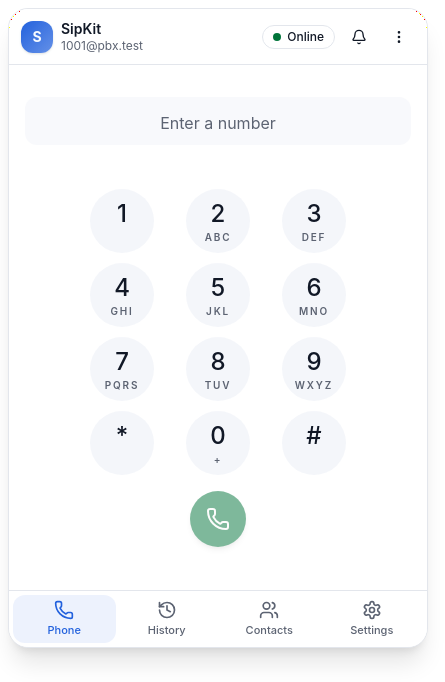
<Softphone /> with core Softphone + FakeEngine › places a call, holds, mutes, sends DTMF and hangs up; history comes from the plugin
Earlier steps of the test are not shown.
Step 1. Click the tab "History" → (167,619), box [116,595,218,643]
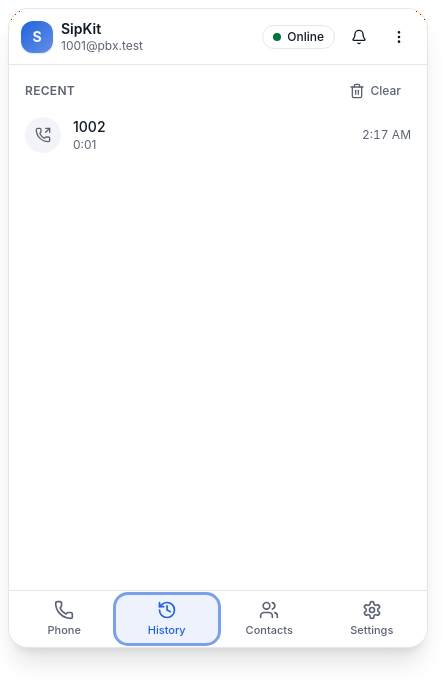
expect the text "1002" is shown: met, box [73,118,106,135]
Step 2. Click the button "Clear" → (375,91), box [338,77,411,105]
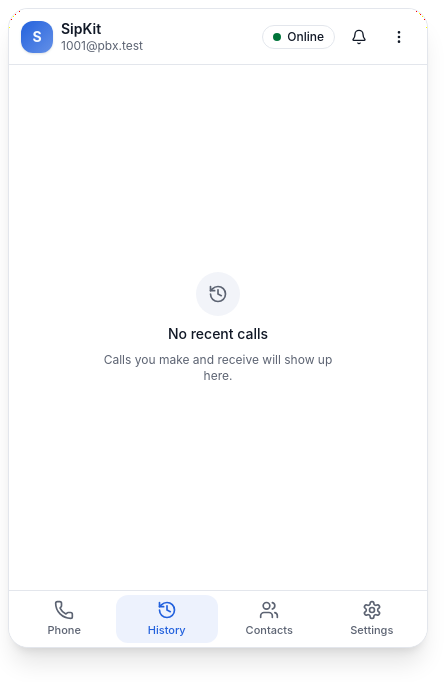
expect the text "No recent calls" is shown: met, box [168,324,268,344]
